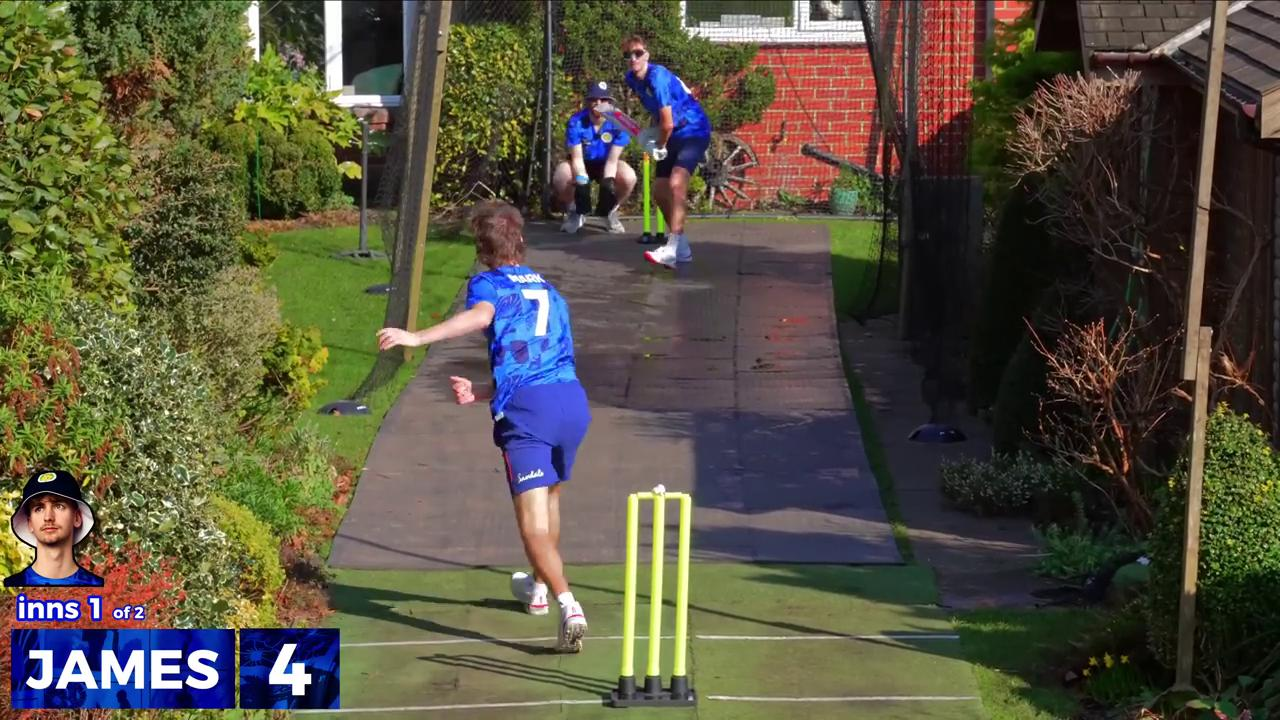ball: (566, 157, 595, 197)
